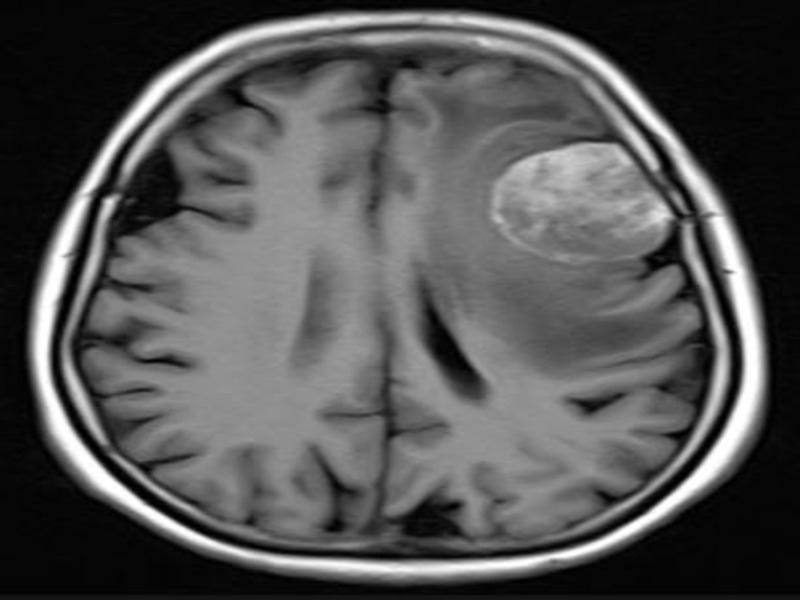tumor: (482, 134, 677, 280)
